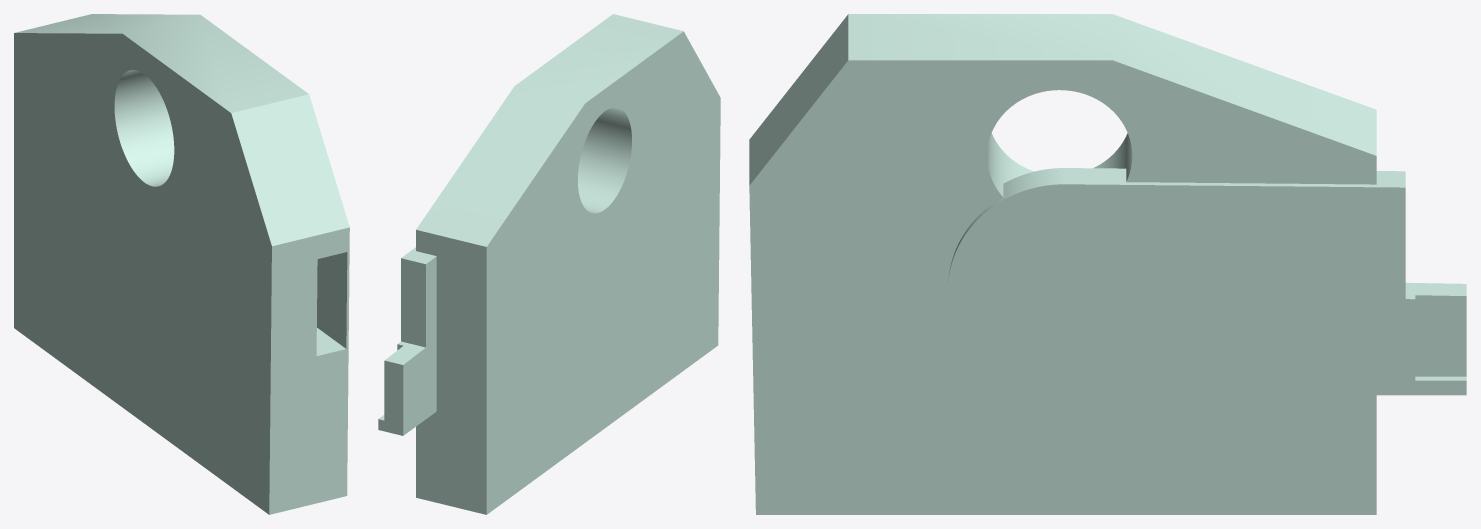
3 renders of one model, left to right at view 1: azimuth 30°, elevation 25°; view 2: azimuth 150°, elevation 25°; view 3: azimuth 270°, elevation 25°, orthographic. The views are drawn at different scales.
Parts seen in each view (by area): view 1: Renderer Node; view 2: Renderer Node; view 3: Renderer Node.
Boxes of the visible parts, x1,y1,x2,y2 form: Renderer Node: [14, 14, 349, 514]; Renderer Node: [378, 14, 720, 514]; Renderer Node: [749, 14, 1466, 514].
Size of the model in its own units: 0.2813 by 1.22 by 1.74.
